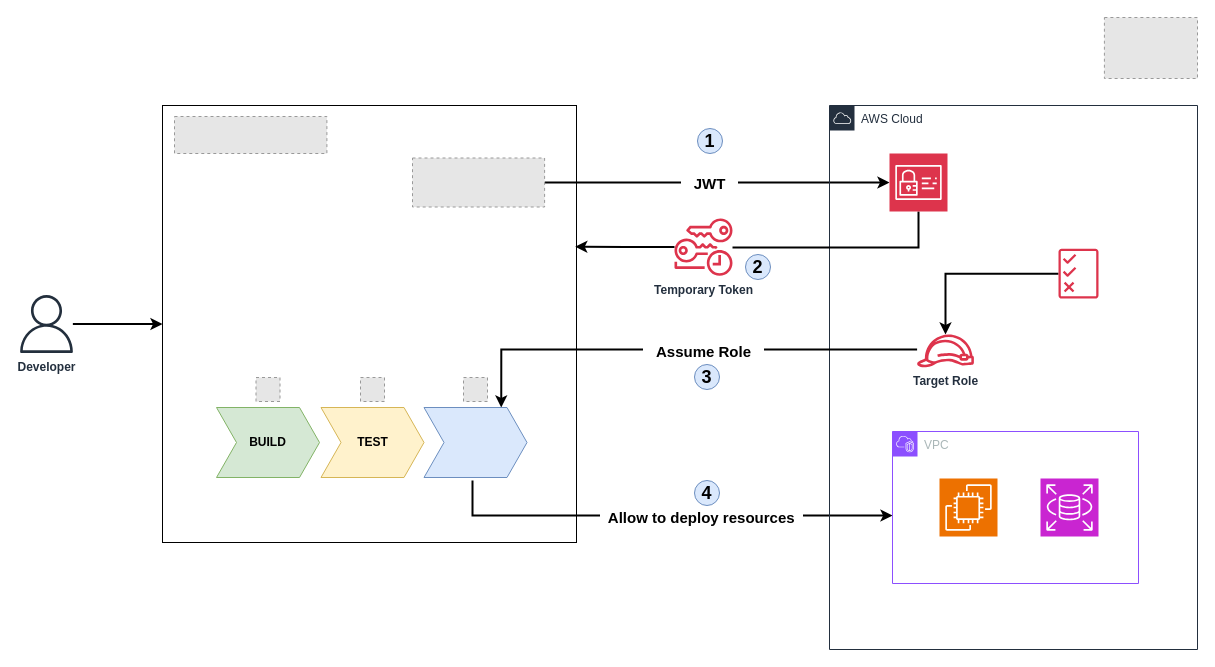
Some shapes in this 1215 by 667 pixel diagram are drawn without their labels. Grey dashed boxes stand in for pictures. Each missing label, with the box of its shape:
DEPLOY: (423, 406, 527, 478)
EC2: (938, 478, 998, 536)
IAM: (888, 152, 948, 212)
Policy: (1058, 248, 1098, 298)
RDS: (1040, 478, 1098, 536)
WORKFLOW: (162, 104, 576, 542)
